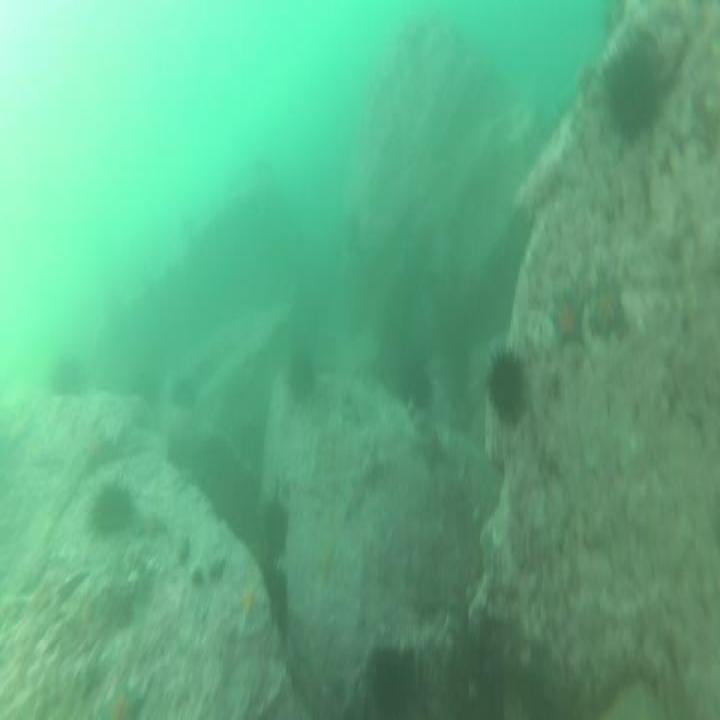echinus: (593, 32, 665, 153), (363, 636, 421, 720), (481, 343, 530, 432), (85, 477, 137, 542), (284, 343, 322, 405), (397, 352, 436, 412), (44, 352, 87, 404), (262, 564, 290, 638), (263, 503, 293, 564), (168, 372, 199, 416)
starfish: (581, 263, 630, 349), (544, 279, 591, 354), (411, 421, 451, 473), (100, 681, 150, 720), (231, 580, 265, 634)
